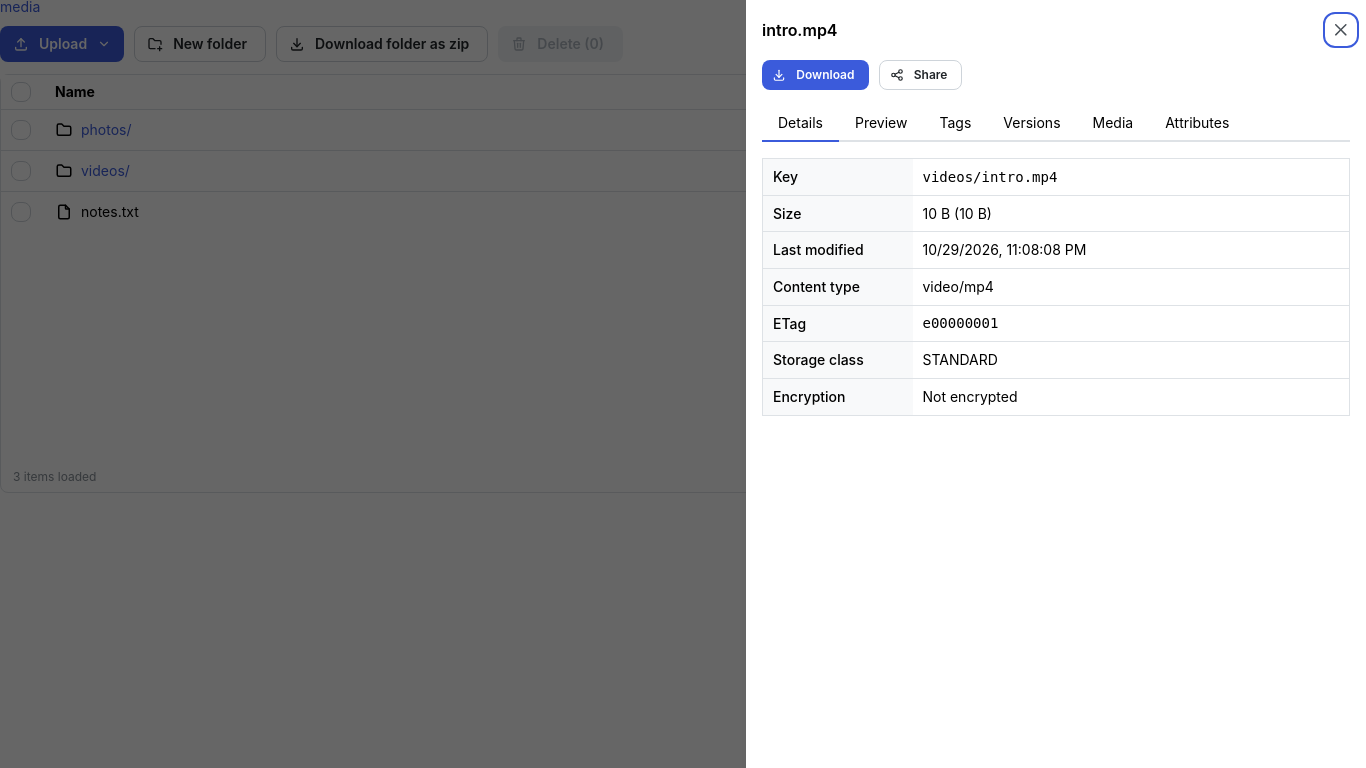
Test: ObjectMediaPanel › shows why the automatic subtitles failed
Click the tab "Media": coordinates (1113, 124) [1076, 106, 1149, 142]
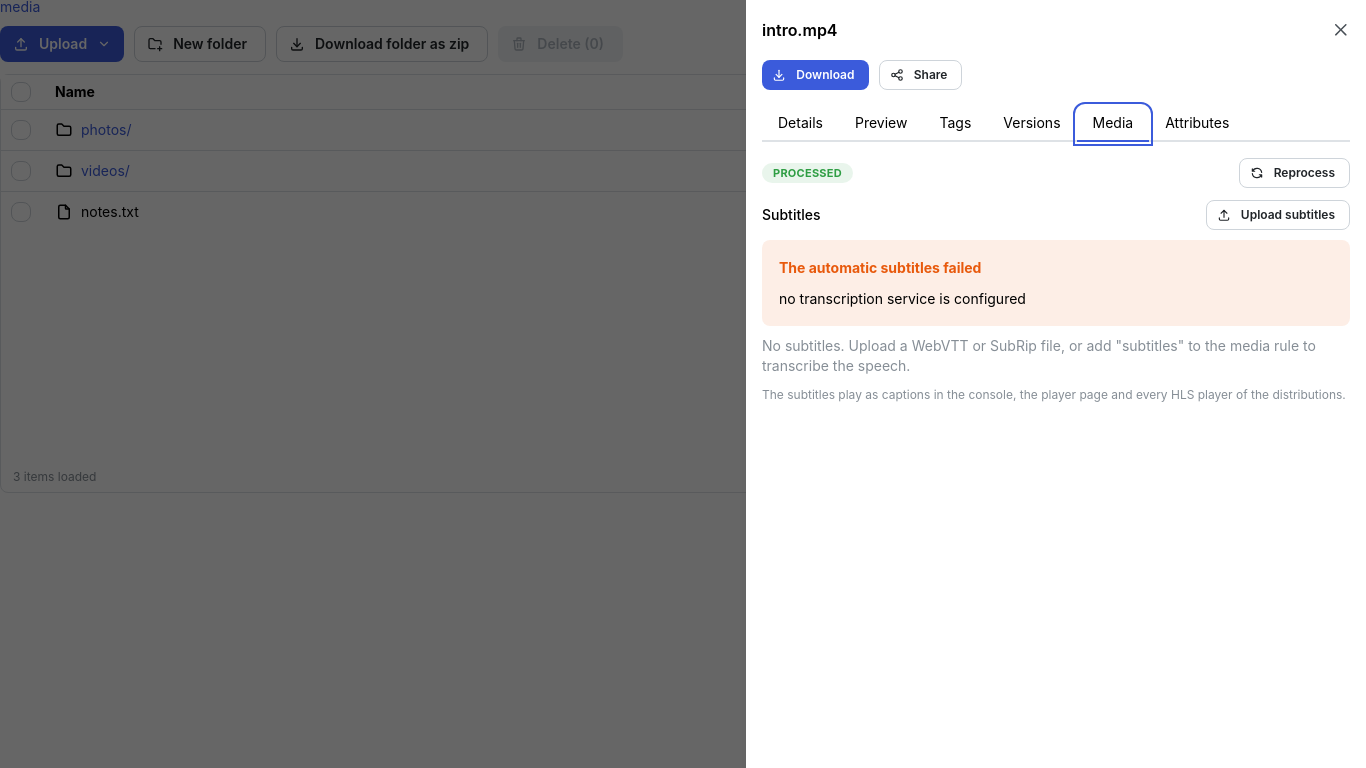
Result: the text "The automatic subtitles failed" is shown at [779, 257, 982, 279]
Result: the text "no transcription service is configured" is shown at [779, 290, 1026, 307]
